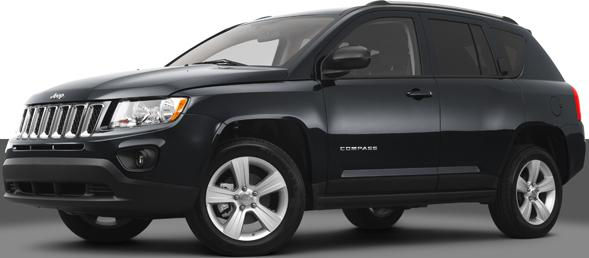front_view: (0, 85, 201, 220)
headlight: (98, 94, 191, 135)
side_glass: (314, 4, 537, 89)
